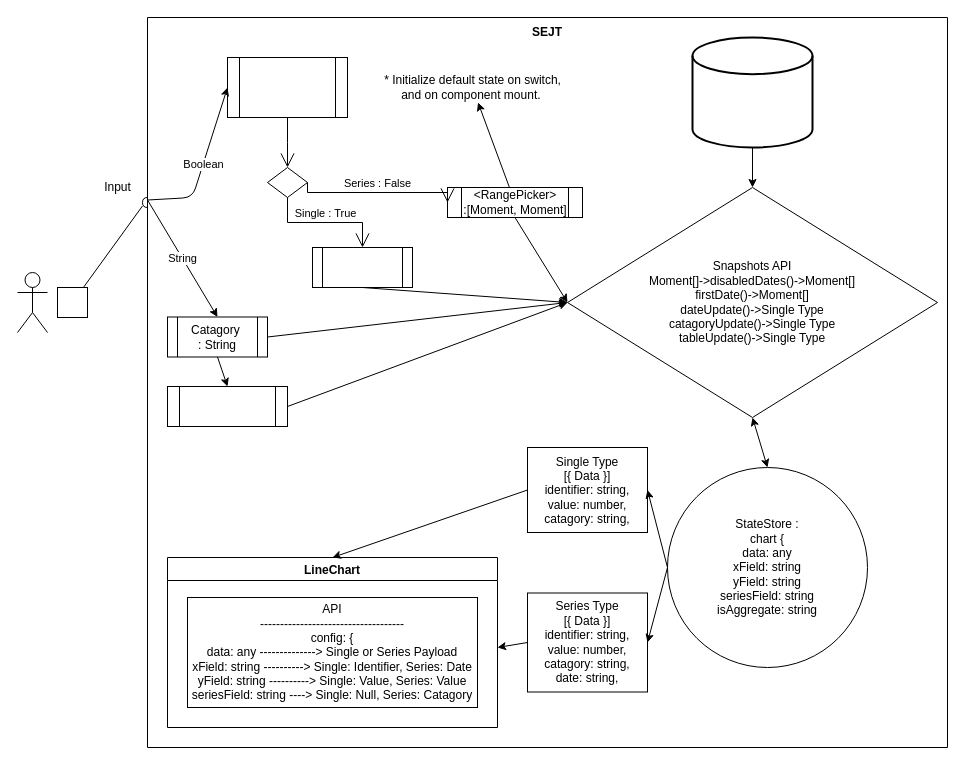
Some shapes in this 965 by 765 pixel diagram are drawn without their labels. Each missing label, with the centre of its shape:
<DatePicker> : Moment: point 362,267
Actor: point 32,302
Snapshots Object: point 752,92
StateStore: isAggregate: Boolean: point 287,87
Sub-Catagory? : String: point 227,406
